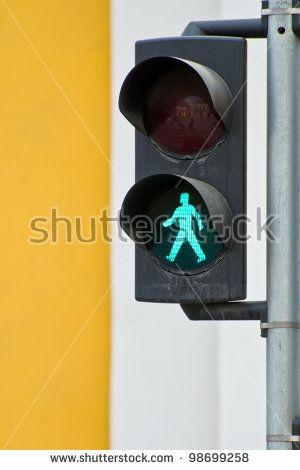Traffic light green: (113, 29, 259, 318)
